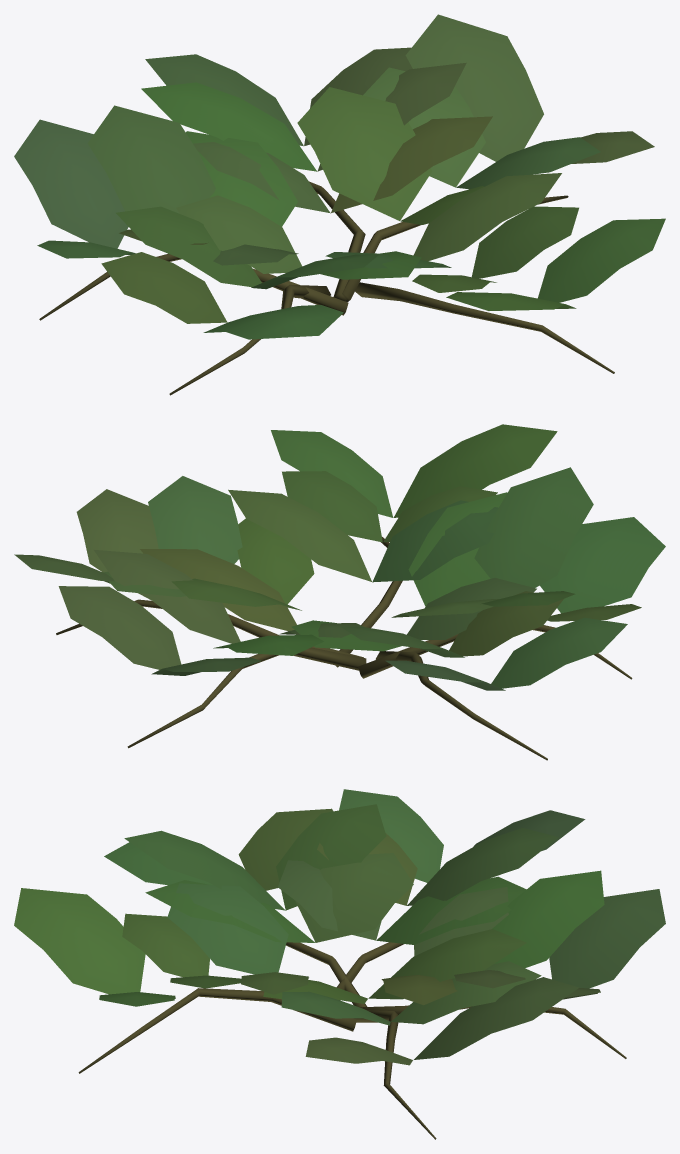
Rendered from creeping-mat.glb.
3 renders of one model, top to bottom at view 1: azimuth 30°, elevation 25°; view 2: azimuth 150°, elevation 25°; view 3: azimuth 270°, elevation 25°, orthographic. The views are drawn at different scales.
Parts seen in each view (by area): view 1: RF08 creeping broadleaf recovery; view 2: RF08 creeping broadleaf recovery; view 3: RF08 creeping broadleaf recovery.
Part boxes in pixels (x1,y1,x2,y2): RF08 creeping broadleaf recovery: (14, 14, 665, 395); RF08 creeping broadleaf recovery: (14, 424, 665, 760); RF08 creeping broadleaf recovery: (14, 789, 665, 1139).
Size of the model in its own units: 0.5198 by 0.1297 by 0.5531.
